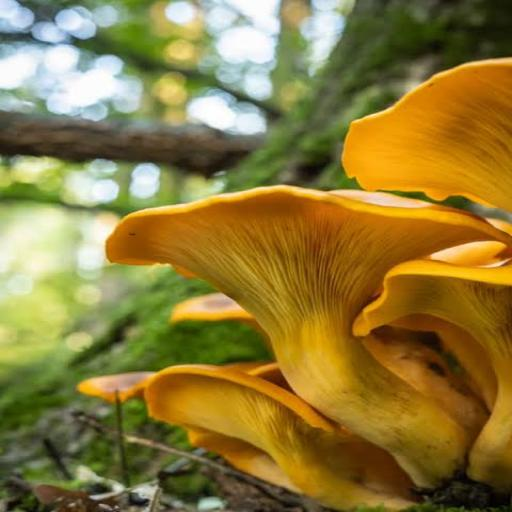Jack O Lantern Mushroom: (101, 178, 511, 490), (45, 350, 418, 512), (347, 241, 512, 496), (309, 56, 512, 212)
